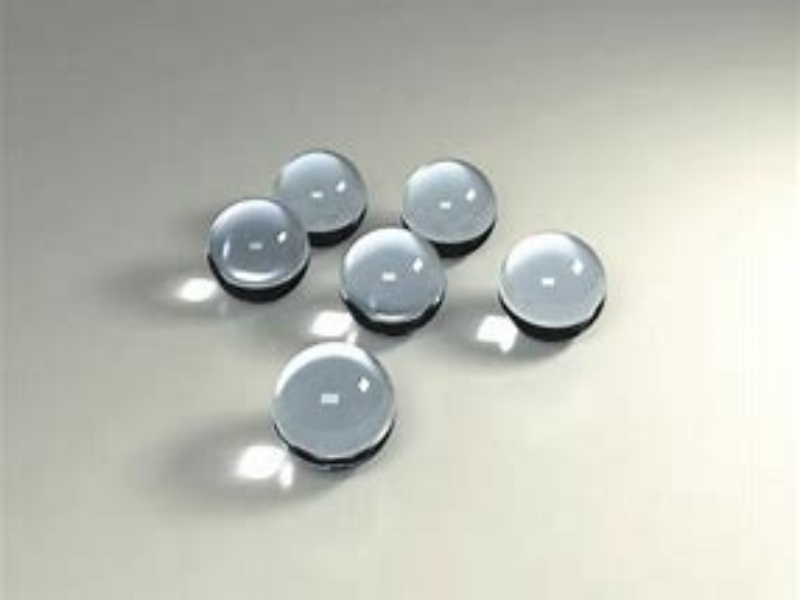bead: (271, 339, 398, 474), (495, 228, 609, 342), (337, 225, 449, 333), (206, 197, 313, 304), (276, 147, 372, 247), (403, 155, 499, 254)
